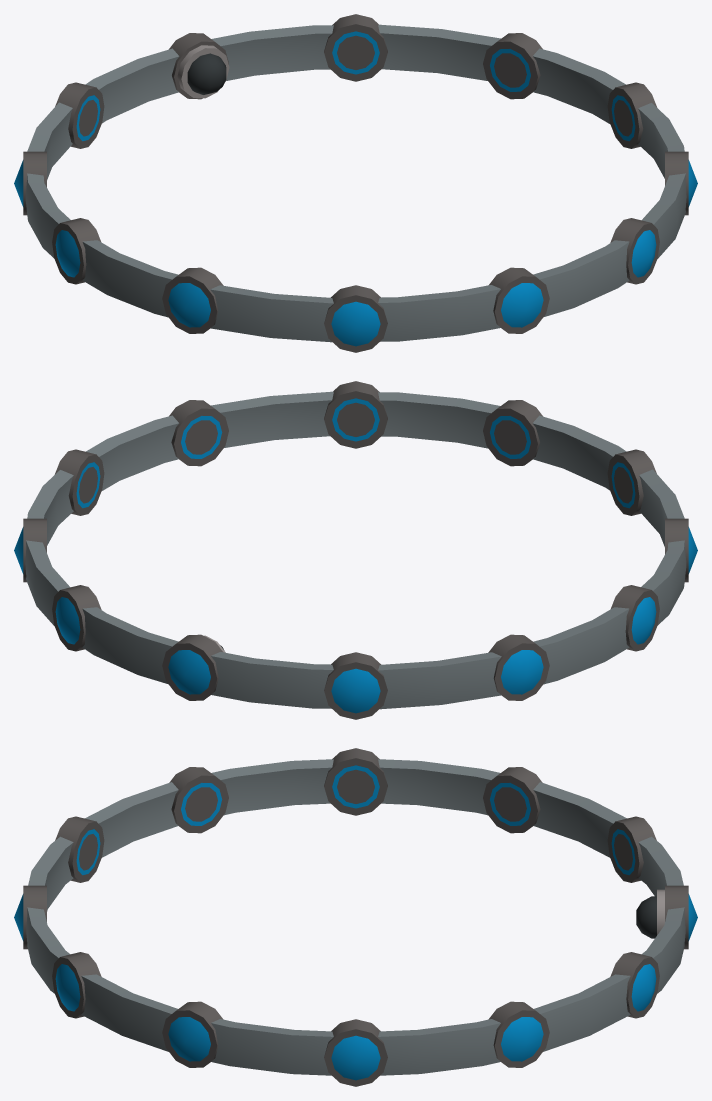
File: Sphere_Vehicle_001.fbx
The picture shows the model from 3 angles, top to bottom: view 1: azimuth 30°, elevation 25°; view 2: azimuth 150°, elevation 25°; view 3: azimuth 270°, elevation 25°; orthographic projection.
Visible parts, largest first — view 1: Sphere_Vehicle_001; view 2: Sphere_Vehicle_001; view 3: Sphere_Vehicle_001.
Boxes of the visible parts, x1,y1,x2,y2 form: Sphere_Vehicle_001: [14, 14, 697, 352]; Sphere_Vehicle_001: [14, 381, 697, 719]; Sphere_Vehicle_001: [14, 748, 697, 1086].
Size of the model in its own units: 245 by 245 by 22.8.
